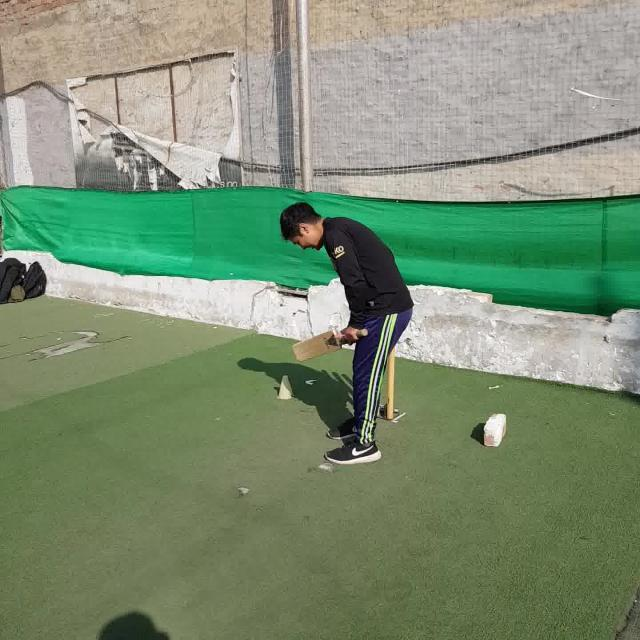bat: (292, 327, 366, 362)
